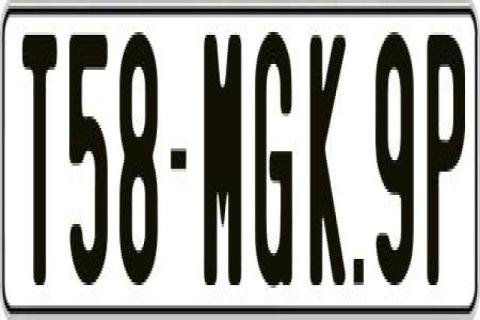0: (372, 23, 416, 291), (68, 32, 110, 282), (118, 24, 156, 282)
G: (253, 32, 292, 294)
K: (309, 35, 346, 299)
M: (200, 29, 240, 282)
P: (424, 26, 458, 282)
T: (22, 29, 60, 279)
